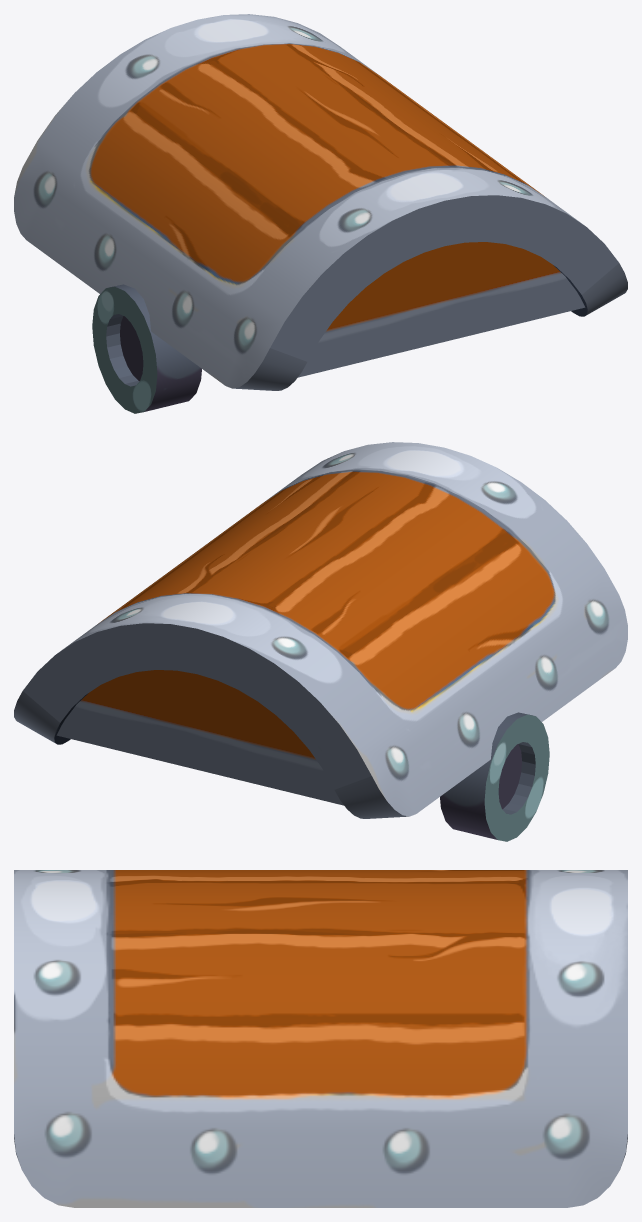
Rendered from Chest_cap.fbx.
The picture shows the model from 3 angles, top to bottom: view 1: azimuth 30°, elevation 25°; view 2: azimuth 150°, elevation 25°; view 3: azimuth 270°, elevation 25°; orthographic projection. The views are drawn at different scales.
Parts seen in each view (by area): view 1: Chest_cap; view 2: Chest_cap; view 3: Chest_cap.
Boxes of the visible parts, x1,y1,x2,y2 form: Chest_cap: (14,14,627,413); Chest_cap: (14,442,627,841); Chest_cap: (14,870,627,1207).
Size of the model in its own units: 187 by 115 by 205.
